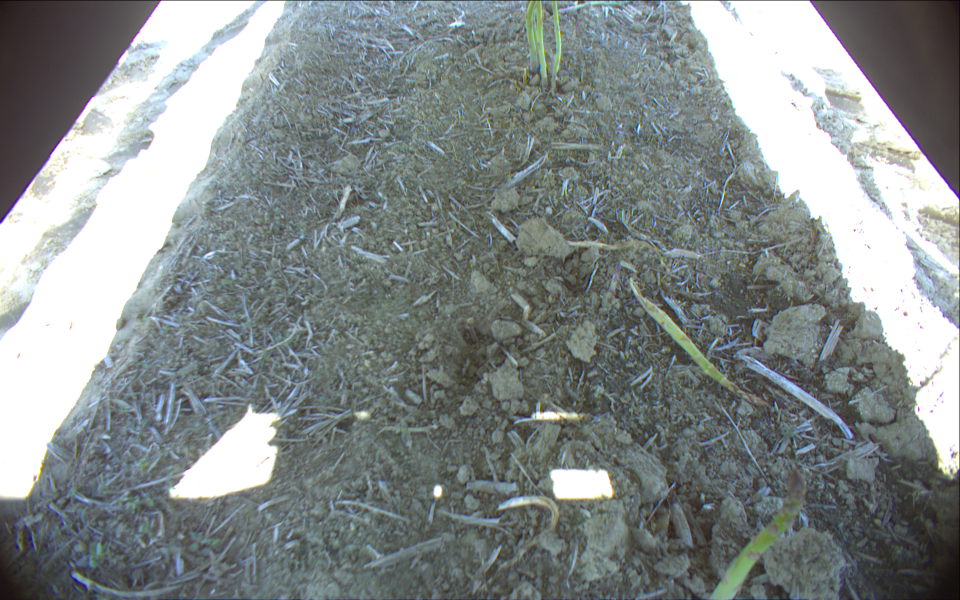aspa: (708, 465, 807, 600), (549, 1, 565, 87), (526, 1, 537, 79), (538, 1, 547, 87)
